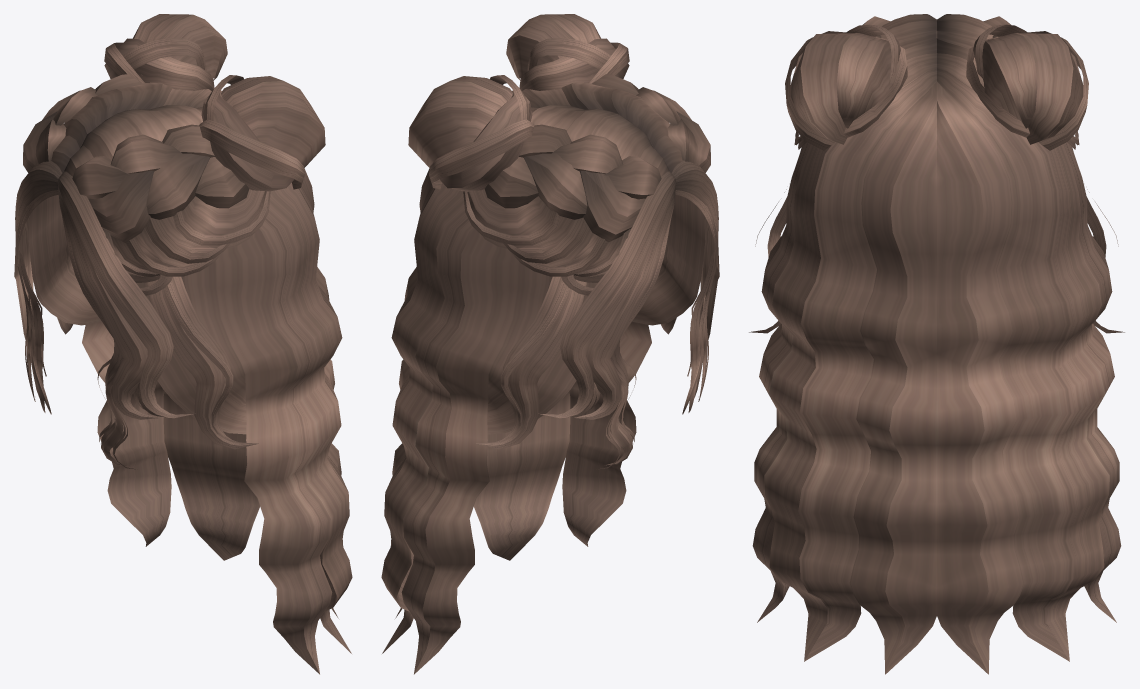
The picture shows the model from 3 angles, left to right: view 1: azimuth 30°, elevation 25°; view 2: azimuth 150°, elevation 25°; view 3: azimuth 270°, elevation 25°; orthographic projection. The views are drawn at different scales.
Parts seen in each view (by area): view 1: geometry_0; view 2: geometry_0; view 3: geometry_0.
Part boxes in pixels (box(x1,y1,x2,y2)): geometry_0: box(14, 14, 352, 674); geometry_0: box(381, 14, 719, 674); geometry_0: box(749, 14, 1124, 674).
Size of the model in its own units: 1.57 by 3.19 by 1.84.
Materials: 1 (1 with a texture image).
